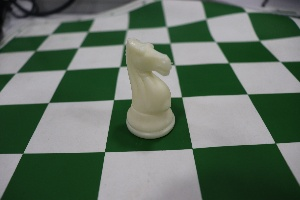white_horse: (109, 30, 188, 150)
